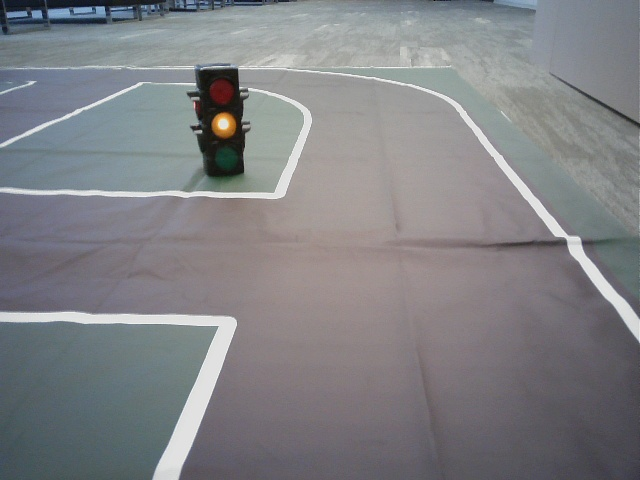yellow: (200, 72, 241, 172)
